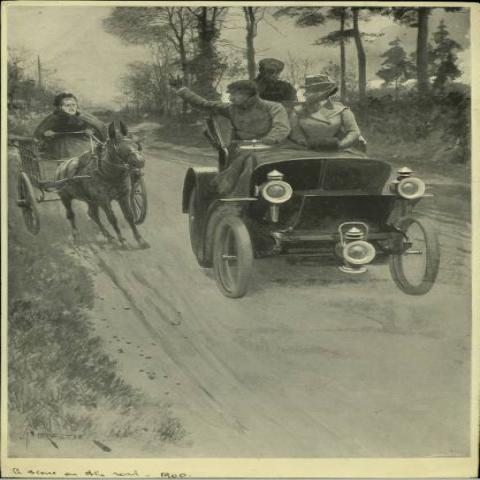car: (174, 113, 444, 300)
